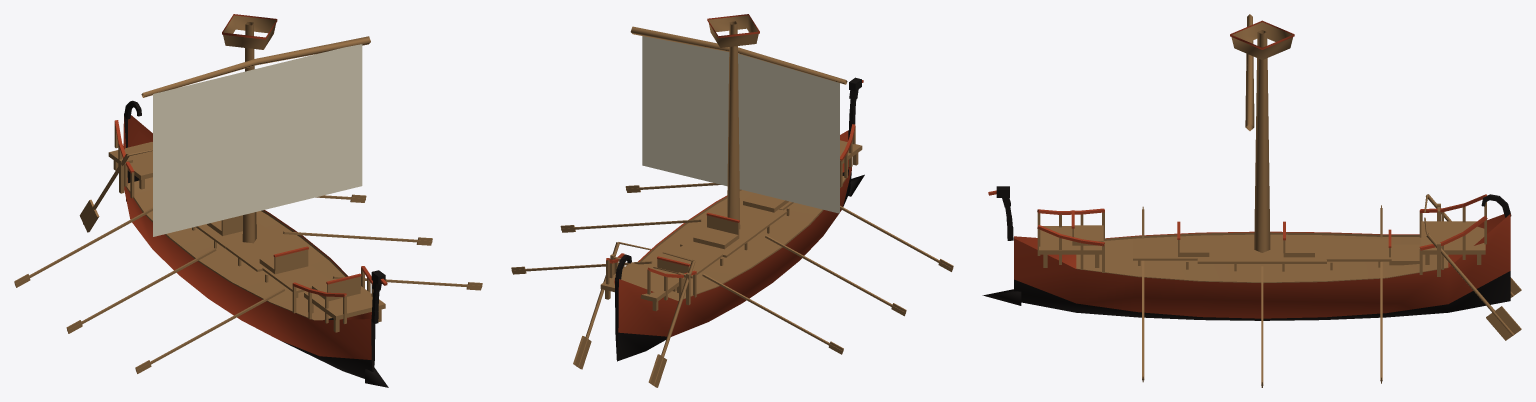
Rendered from ship_crewdestroyer_blockout_LOD2.obj.
3 views of the same model, side by side, from view 1: azimuth 30°, elevation 25°; view 2: azimuth 150°, elevation 25°; view 3: azimuth 270°, elevation 25° (orthographic). The views are drawn at different scales.
Parts seen in each view (by area): view 1: ship_crewdestroyer_blockout_LOD2; view 2: ship_crewdestroyer_blockout_LOD2; view 3: ship_crewdestroyer_blockout_LOD2.
Boxes of the visible parts, box(x1,y1,x2,y2) form: ship_crewdestroyer_blockout_LOD2: box(14, 14, 482, 387); ship_crewdestroyer_blockout_LOD2: box(511, 14, 953, 387); ship_crewdestroyer_blockout_LOD2: box(982, 14, 1521, 387).
Size of the model in its own units: 17.68 by 13.28 by 22.46.
